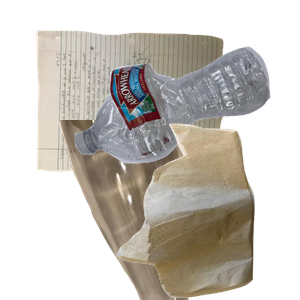glass: (56, 120, 241, 300)
paper: (32, 28, 249, 196)
plastic: (72, 44, 300, 200)
trash: (114, 121, 300, 300)
